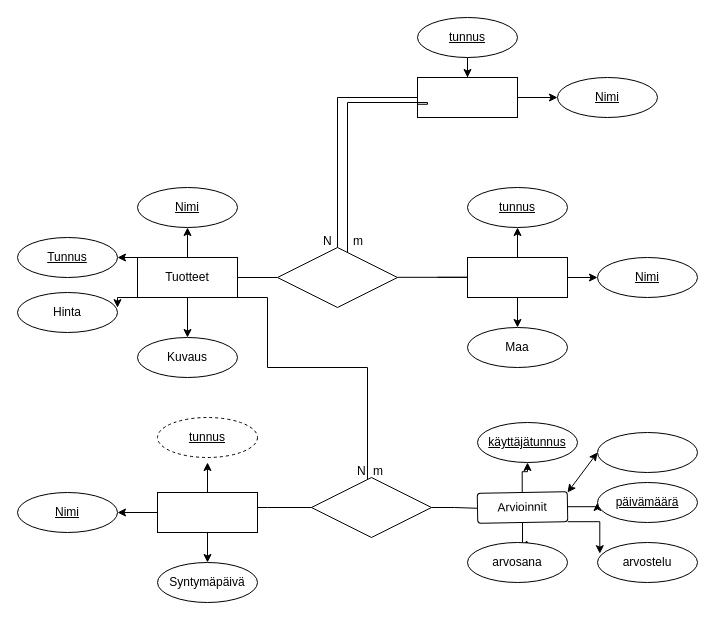
Image size: 715x620. Some labels were removed from this diagram. Each missing label, with the centre of its shape:
arvioi: point 371,507
Kategoria: point 467,97
kuuluu: point 337,277
käyttäjä: point 207,512
tuotemerkki: point 517,277
tuotetunnus: point 647,452
